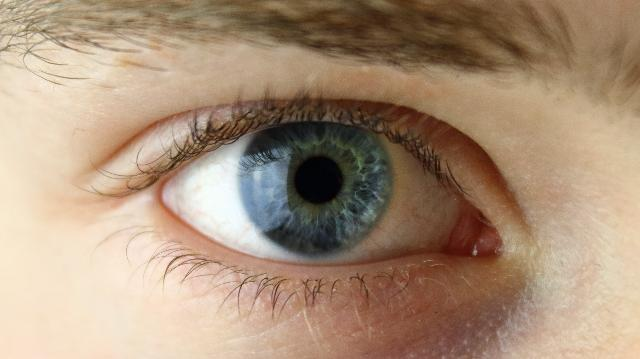eye: (241, 114, 395, 258)
